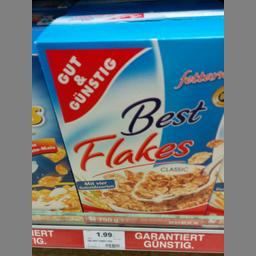cereal: (34, 12, 222, 222)
